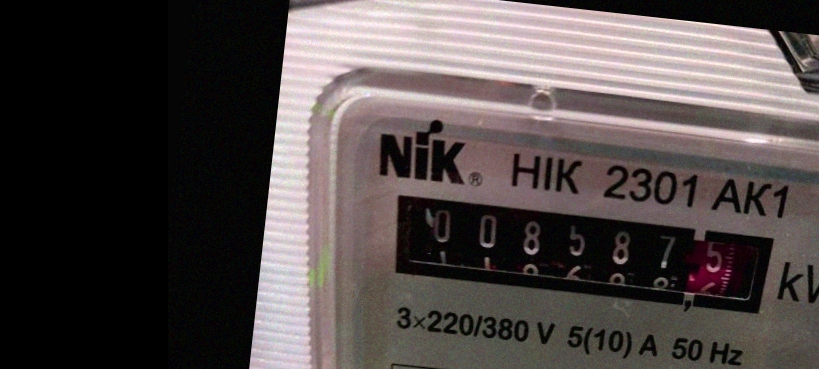0: (474, 208, 502, 250)
1: (428, 203, 456, 246)
5: (701, 234, 729, 276), (564, 219, 591, 259)
7: (652, 230, 680, 273)
8: (517, 215, 546, 258), (609, 225, 634, 268)
screen: (367, 172, 796, 336)
